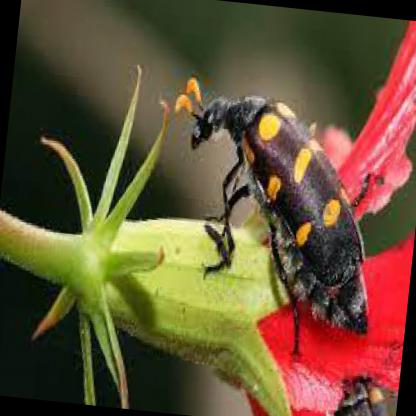blister beetle: (193, 93, 366, 332)
